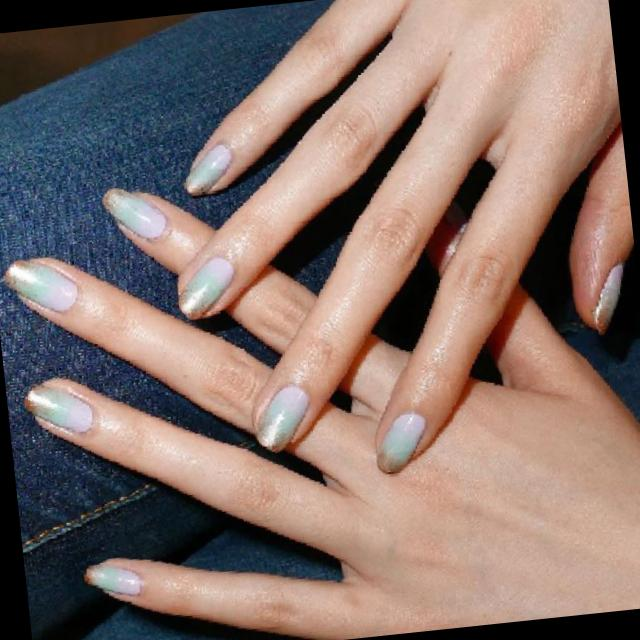Nail: (4, 259, 76, 310), (257, 383, 309, 449), (178, 256, 234, 317), (102, 187, 166, 239), (24, 384, 93, 431), (377, 410, 426, 472), (184, 142, 231, 194), (593, 261, 624, 332), (84, 563, 142, 595)
